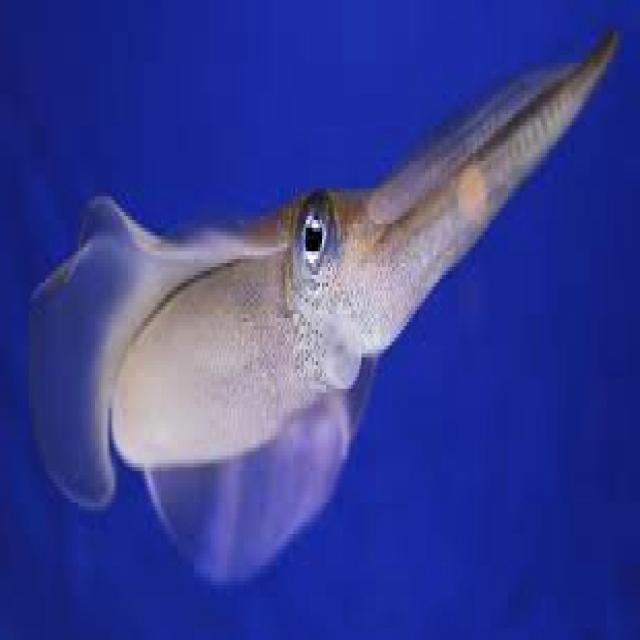squid: (31, 31, 617, 581)
